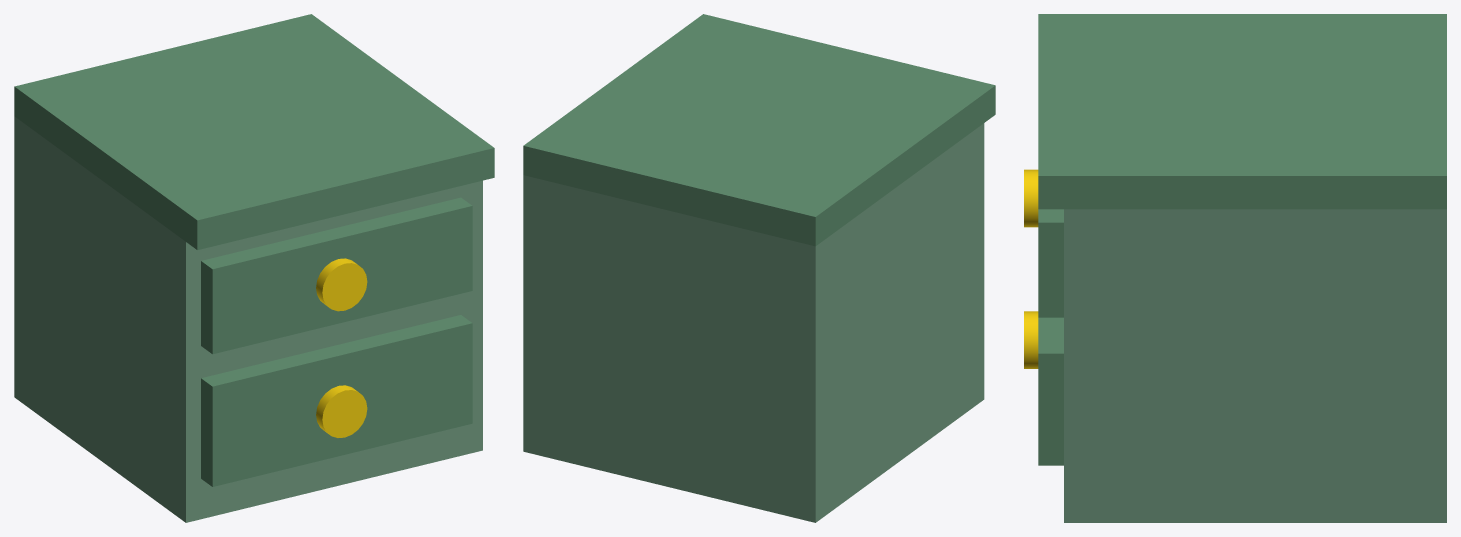
The model's file is Drawer_B.fbx.
The picture shows the model from 3 angles, left to right: view 1: azimuth 30°, elevation 25°; view 2: azimuth 150°, elevation 25°; view 3: azimuth 270°, elevation 25°; orthographic projection. The views are drawn at different scales.
Parts seen in each view (by area): view 1: pCube1, pCylinder1, pCylinder2; view 2: pCube1; view 3: pCube1, pCylinder1, pCylinder2.
Part boxes in pixels (x1=…): pCube1: x1=14, y1=14, x2=494, y2=522; pCylinder1: x1=316, y1=258, x2=367, y2=311; pCylinder2: x1=316, y1=385, x2=367, y2=437; pCube1: x1=523, y1=14, x2=995, y2=522; pCube1: x1=1038, y1=14, x2=1446, y2=522; pCylinder1: x1=1024, y1=169, x2=1038, y2=227; pCylinder2: x1=1024, y1=311, x2=1038, y2=368.
Bounding box in the file's own units: 75.41 × 75.41 × 83.23.
